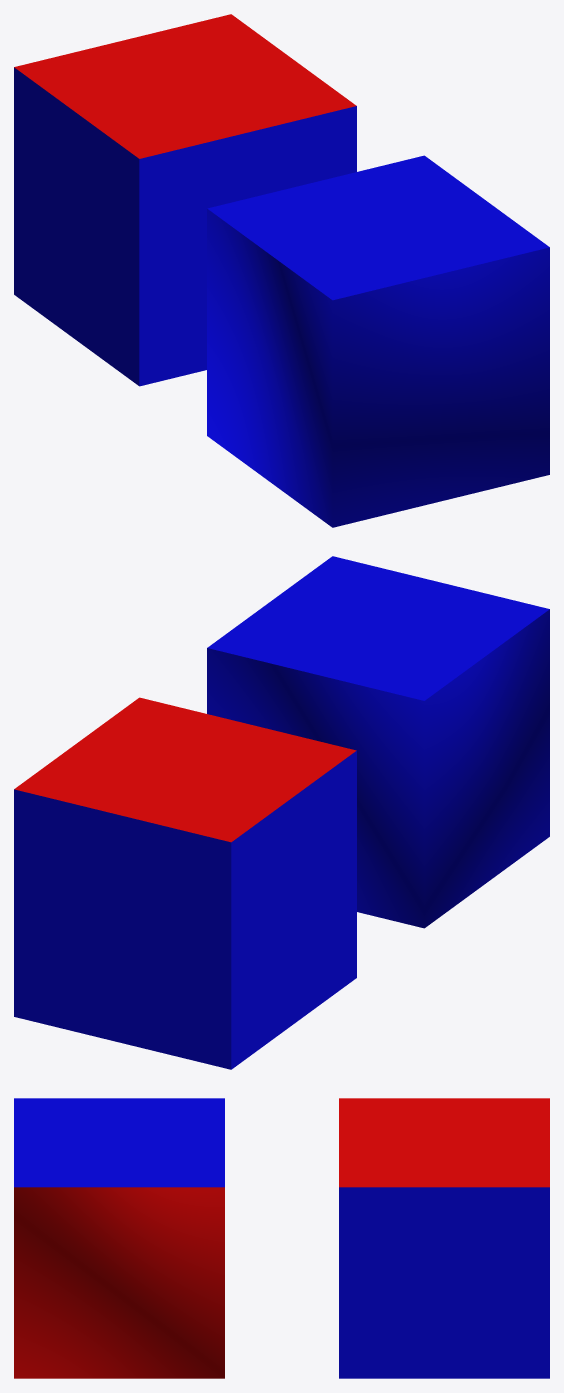
File: testCube2.fbx
3 views of the same model, one above another, from view 1: azimuth 30°, elevation 25°; view 2: azimuth 150°, elevation 25°; view 3: azimuth 270°, elevation 25° (orthographic). The views are drawn at different scales.
Parts seen in each view (by area): view 1: testCube; view 2: testCube; view 3: testCube.
Boxes of the visible parts, box(x1,y1,x2,y2) form: testCube: box(14, 14, 549, 527); testCube: box(14, 556, 549, 1069); testCube: box(14, 1098, 549, 1378).
Bounding box in the file's own units: 100 × 100 × 254.
